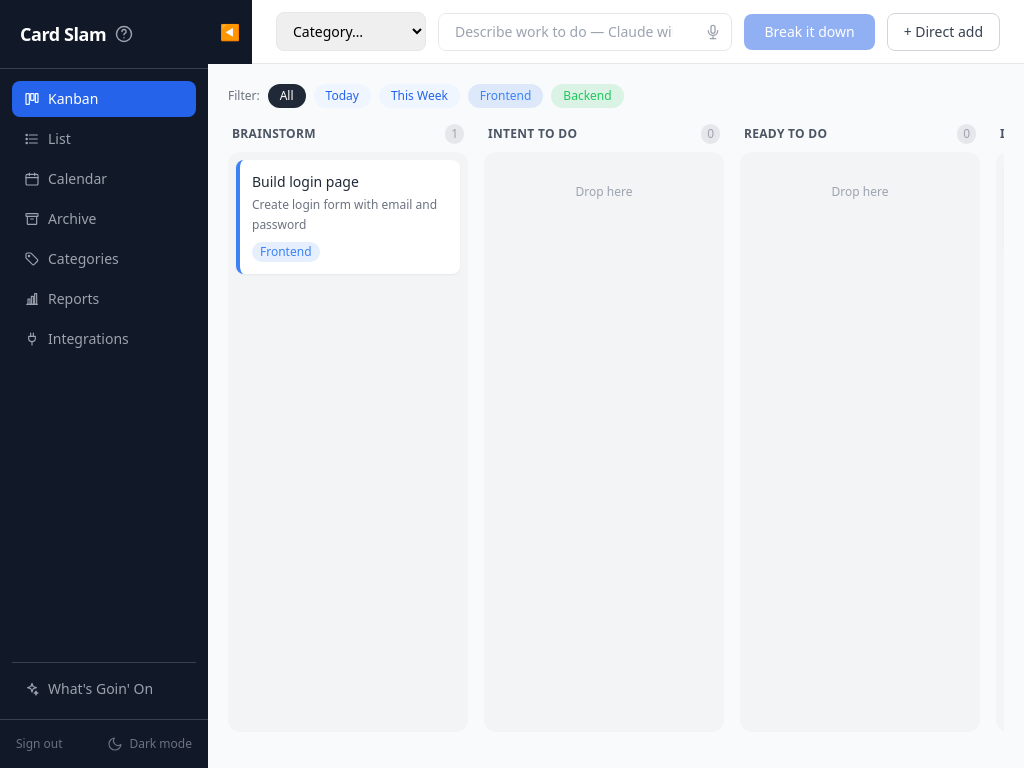
Test: Layout sidebar › What's Goin' On modal can be dismissed via the close button
What coordinates should you click on to do the following:
click the button "What's Goin' On"
I would click on:
 (104, 689)
Its box is [12, 671, 196, 707].
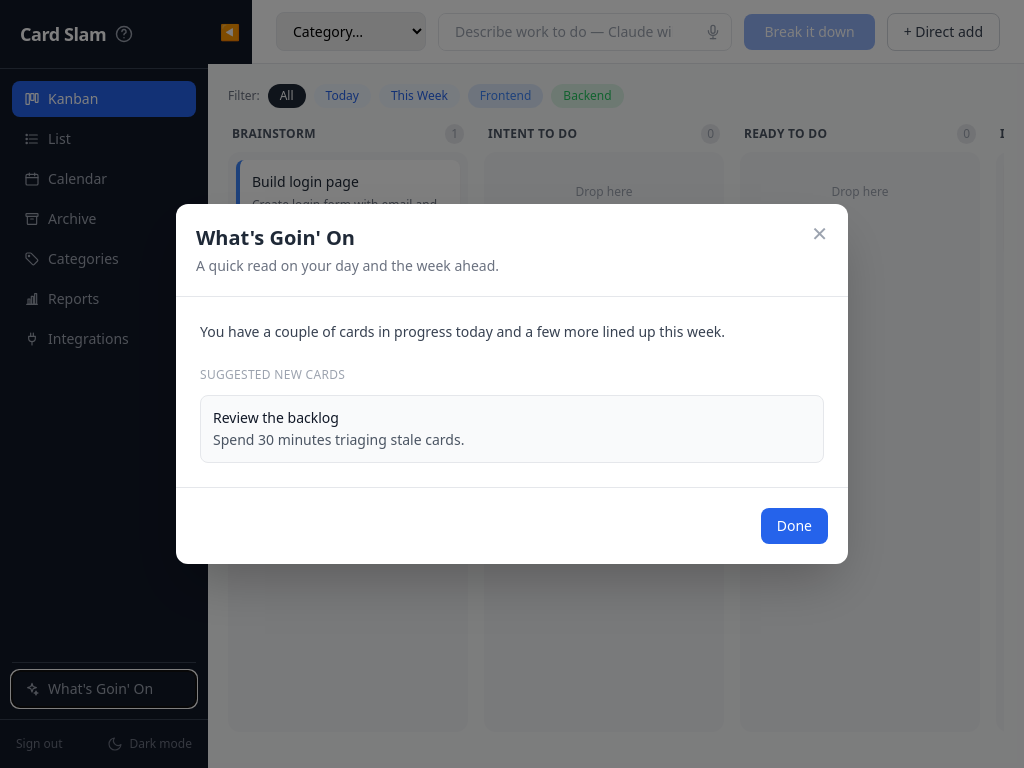
Check: the dialog with test id "whats-goin-on-modal" is shown
What coordinates should you click on to do the following:
click the button with test id "whats-goin-on-close"
I would click on:
 (820, 234)
Its box is [807, 220, 832, 248].
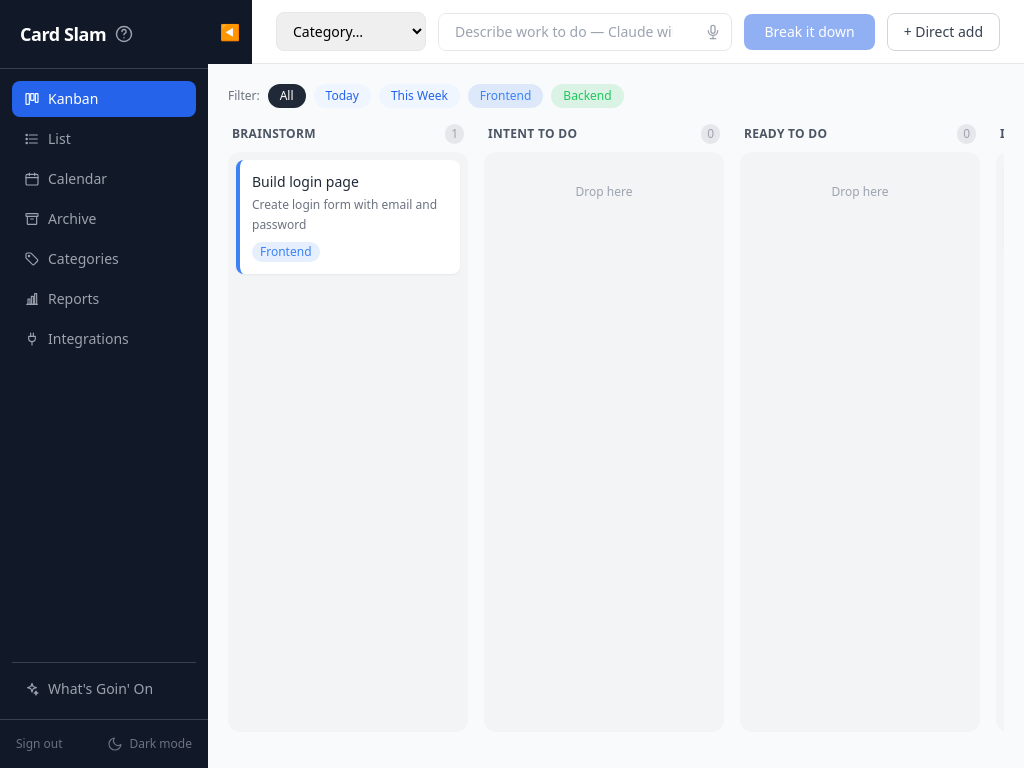
Check: the dialog with test id "whats-goin-on-modal" is gone
